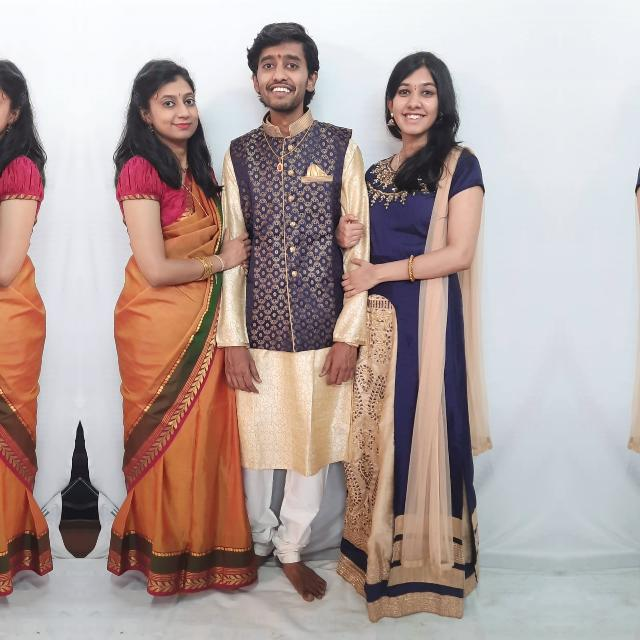person: (216, 18, 374, 600), (352, 42, 476, 630), (110, 48, 238, 576), (0, 47, 50, 576)
